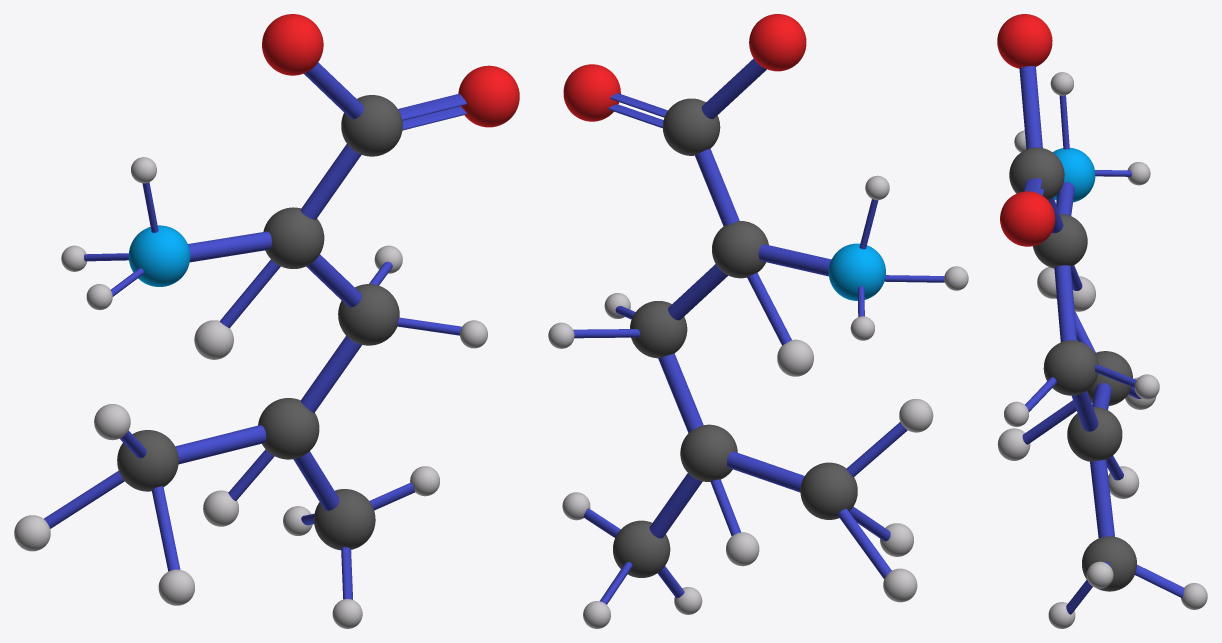
3 views of the same model, side by side, from view 1: azimuth 30°, elevation 25°; view 2: azimuth 150°, elevation 25°; view 3: azimuth 270°, elevation 25° (orthographic). The views are drawn at different scales.
Visible parts, largest first — view 1: node_id177, node_id143, node_id232, node_id216, node_id160, node_id138, node_id221, node_id200, node_id211, node_id206, node_id227, node_id189 (+16 smaller); view 2: node_id177, node_id211, node_id143, node_id232, node_id216, node_id160, node_id138, node_id200, node_id221, node_id189, node_id206, node_id166 (+17 smaller); view 3: node_id143, node_id177, node_id221, node_id216, node_id138, node_id200, node_id160, node_id172, node_id232, node_id195, node_id183, node_id211 (+21 smaller).
Part boxes in pixels (left/top/right/bottom): node_id177: left=262, top=14, right=323, bottom=75; node_id143: left=458, top=65, right=519, bottom=127; node_id232: left=128, top=225, right=190, bottom=286; node_id216: left=258, top=398, right=319, bottom=459; node_id160: left=263, top=207, right=324, bottom=268; node_id138: left=341, top=95, right=402, bottom=156; node_id221: left=338, top=284, right=399, bottom=345; node_id200: left=314, top=489, right=375, bottom=550; node_id211: left=117, top=430, right=178, bottom=491; node_id206: left=175, top=425, right=266, bottom=464; node_id227: left=188, top=231, right=271, bottom=262; node_id189: left=300, top=336, right=361, bottom=412; node_id177: left=749, top=14, right=806, bottom=71; node_id211: left=800, top=462, right=857, bottom=519; node_id143: left=563, top=64, right=620, bottom=121; node_id232: left=828, top=243, right=885, bottom=300; node_id216: left=680, top=424, right=737, bottom=481; node_id160: left=712, top=221, right=768, bottom=278; node_id138: left=662, top=98, right=720, bottom=155; node_id200: left=613, top=520, right=670, bottom=577; node_id221: left=630, top=301, right=687, bottom=358; node_id189: left=658, top=353, right=703, bottom=432; node_id206: left=727, top=451, right=804, bottom=492; node_id166: left=695, top=148, right=739, bottom=226; node_id143: left=1000, top=191, right=1055, bottom=246; node_id177: left=997, top=14, right=1052, bottom=68; node_id221: left=1043, top=340, right=1098, bottom=395; node_id216: left=1067, top=407, right=1122, bottom=461; node_id138: left=1009, top=147, right=1064, bottom=200; node_id200: left=1082, top=536, right=1136, bottom=591; node_id160: left=1033, top=214, right=1087, bottom=268; node_id172: left=1019, top=66, right=1042, bottom=149; node_id232: left=1052, top=147, right=1095, bottom=202; node_id195: left=1090, top=460, right=1114, bottom=537; node_id183: left=1054, top=265, right=1077, bottom=342; node_id211: left=1087, top=351, right=1132, bottom=405.
Bounding box in the file's own units: 0.36 × 0.5082 × 0.1677.
Materials: 44 (22 with a texture image).
